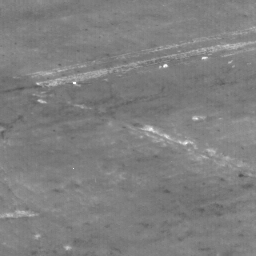aircraft: (74, 82, 76, 84)
